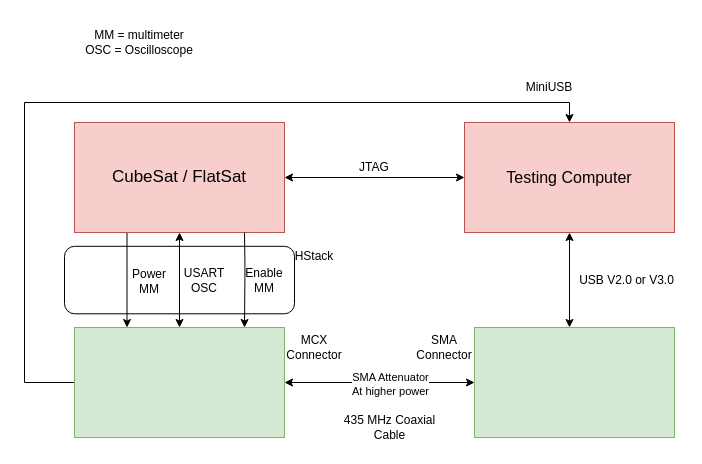
The diagram is 702 pixels wide and 464 high, and some of its shapes have lost their labels. The shapes that lost their labels are listed below. From the top down, each one's box as (x1, y1, x2, y2) in pixels, then its label:
(74, 326, 284, 438): Transceiver AX.25
(474, 326, 674, 438): SDR Transceiver or Spectrum Analyzer
